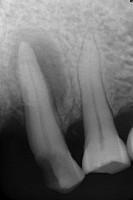Furcation Involvement: (11, 29, 68, 112)
